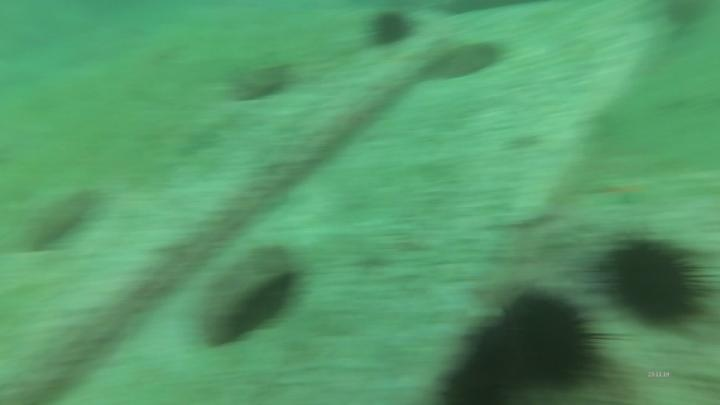echinus: (470, 274, 630, 403), (573, 222, 720, 343)
